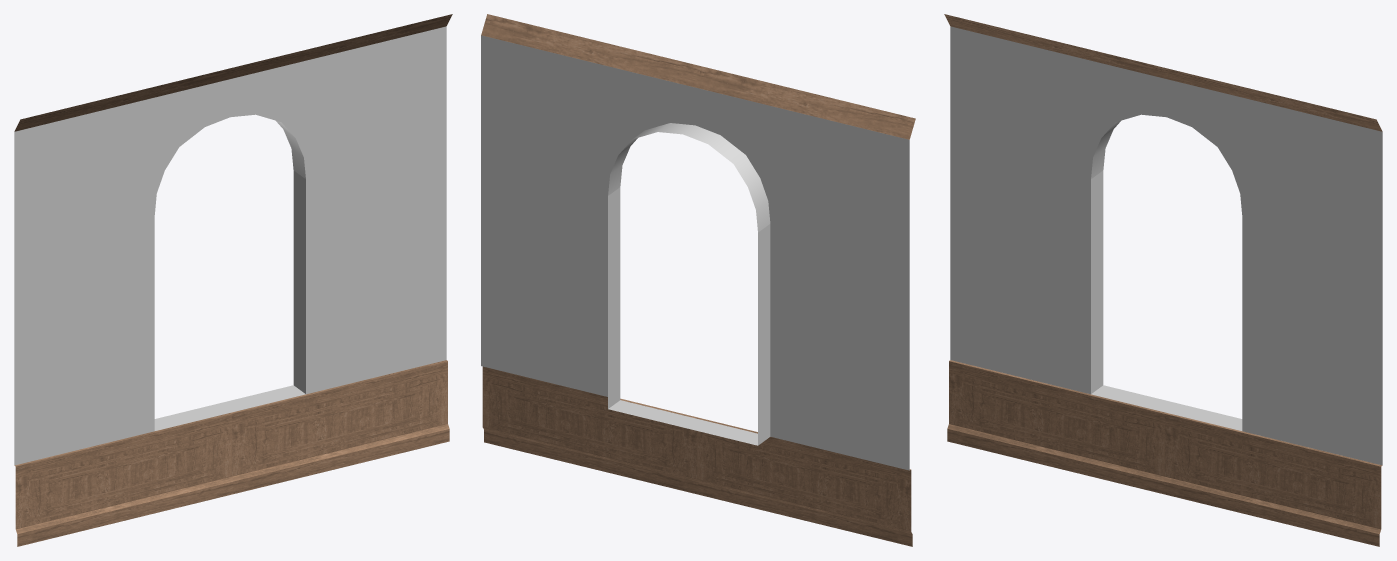
Rendered from WallInt2Window1RoundedA.fbx.
3 renders of one model, left to right at view 1: azimuth 30°, elevation 25°; view 2: azimuth 150°, elevation 25°; view 3: azimuth 330°, elevation 25°, orthographic.
Parts seen in each view (by area): view 1: WallInt2Window1RoundedA; view 2: WallInt2Window1RoundedA; view 3: WallInt2Window1RoundedA.
Boxes of the visible parts, x1,y1,x2,y2 form: WallInt2Window1RoundedA: (14, 14, 452, 546); WallInt2Window1RoundedA: (481, 14, 915, 546); WallInt2Window1RoundedA: (944, 14, 1382, 546).
Bounding box in the file's own units: 400 × 380 × 30.
